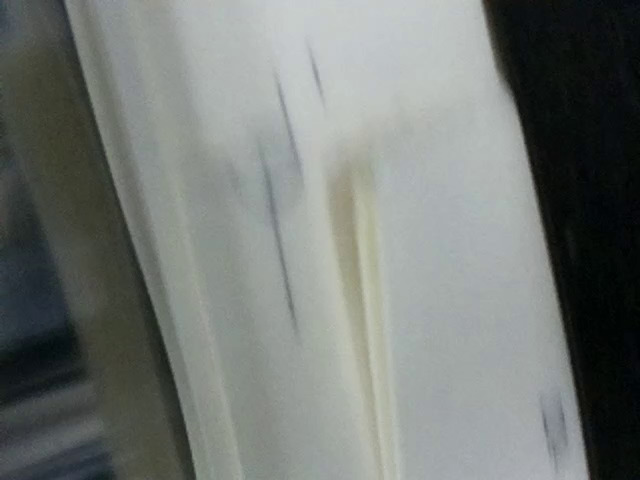not_sure: (184, 71, 312, 219)
